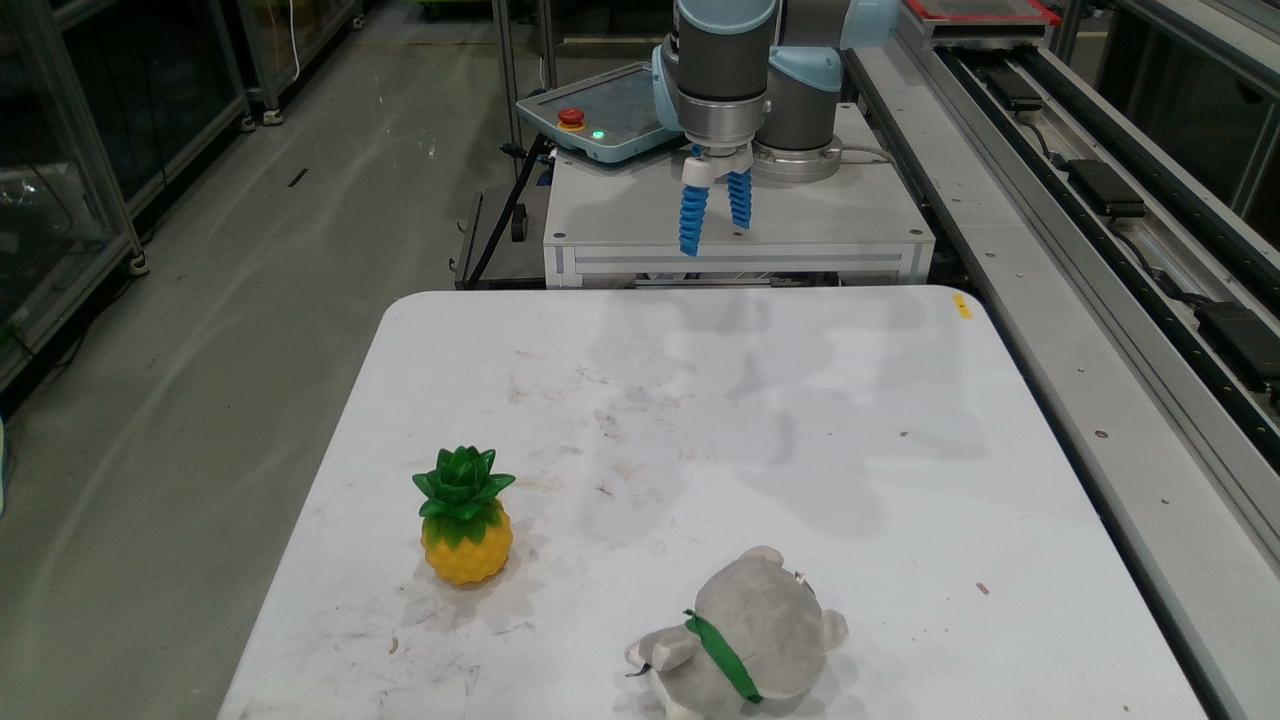UR5: (652, 2, 896, 186)
gripper_left: (680, 187, 708, 255)
gripper_right: (728, 170, 750, 228)
target: (628, 547, 846, 719), (414, 447, 510, 584)
